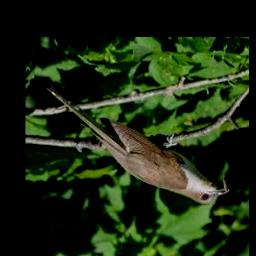Cuckoo: (46, 84, 229, 205)
